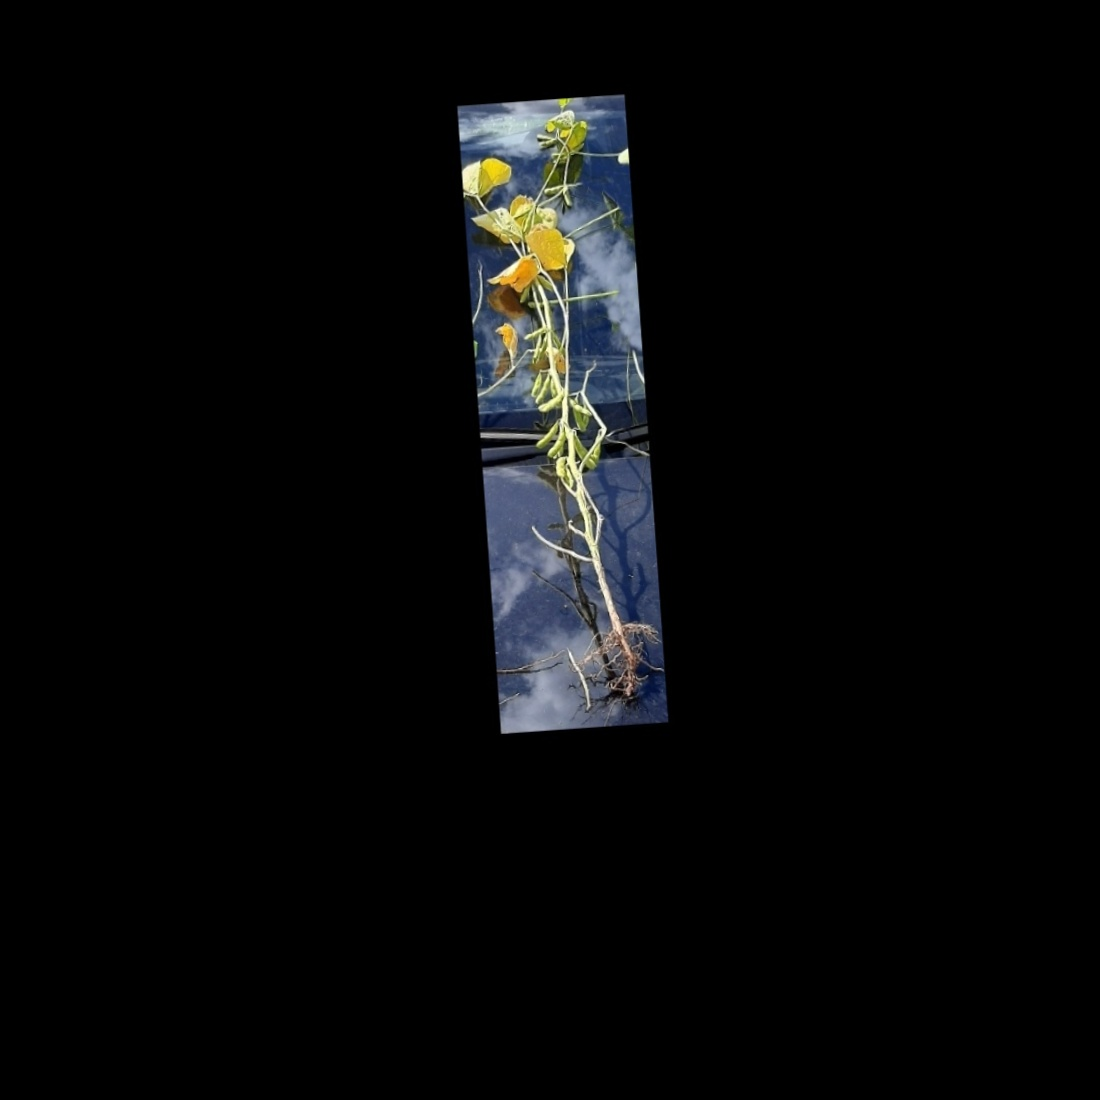pod: (571, 433, 599, 476), (541, 423, 570, 464), (529, 372, 557, 409), (531, 422, 564, 453), (541, 427, 567, 460), (565, 393, 595, 421), (531, 391, 567, 414), (570, 400, 589, 439), (519, 321, 549, 341)
soy: (471, 95, 658, 707)
